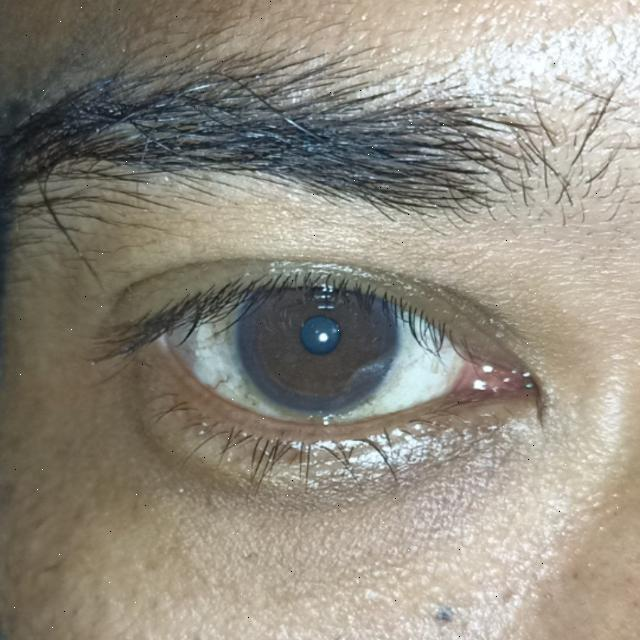Normal: (236, 258, 400, 414)
